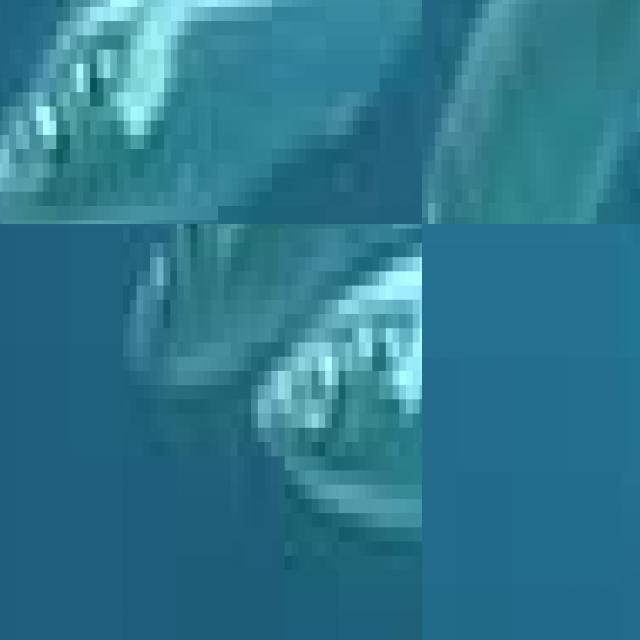fish: (0, 0, 422, 224), (264, 224, 422, 640), (422, 0, 640, 224)
